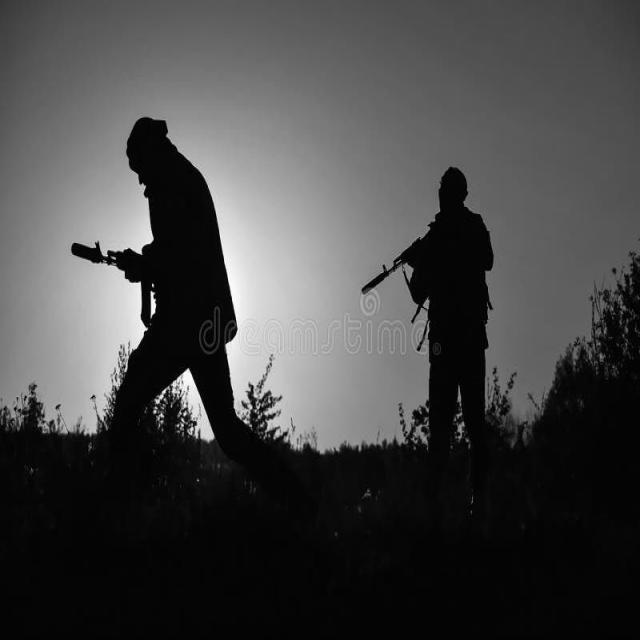Forest: (0, 0, 640, 640)
Militant: (68, 92, 269, 473), (382, 144, 516, 456)
